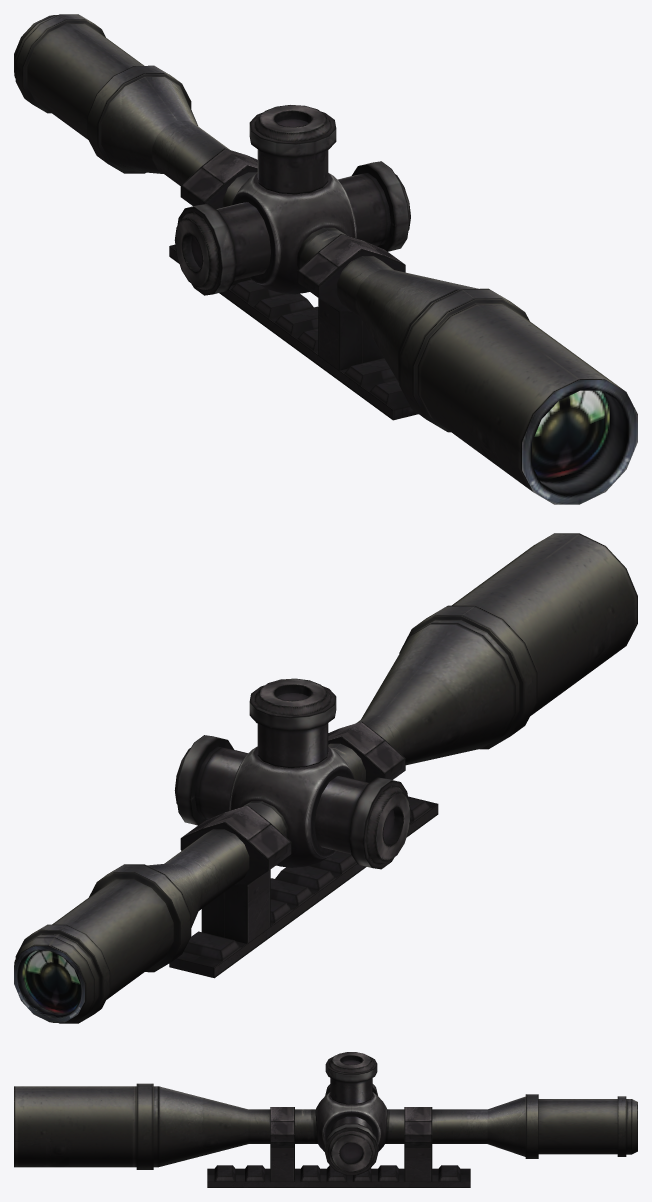
File: SniperRifle_Warfare_Scope_1.FBX
3 renders of one model, top to bottom at view 1: azimuth 30°, elevation 25°; view 2: azimuth 150°, elevation 25°; view 3: azimuth 270°, elevation 25°, orthographic. The views are drawn at different scales.
Parts seen in each view (by area): view 1: mesh_scope; view 2: mesh_scope; view 3: mesh_scope.
Boxes of the visible parts, left/top/right/bottom form: mesh_scope: left=14, top=14, right=637, bottom=504; mesh_scope: left=14, top=533, right=637, bottom=1023; mesh_scope: left=14, top=1052, right=637, bottom=1187.
Bounding box in the file's own units: 0.1188 × 0.1164 × 0.5434.
